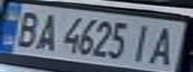2: (93, 17, 115, 60)
4: (57, 13, 84, 55)
5: (109, 19, 133, 62)
6: (75, 16, 100, 56)
A: (145, 24, 184, 67), (30, 10, 63, 52)
B: (6, 7, 45, 48)
I: (127, 20, 160, 63)
